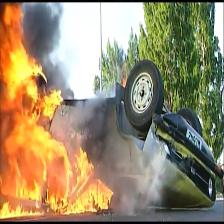fire: (0, 6, 120, 217)
smoke: (93, 101, 171, 217), (20, 1, 93, 101)
